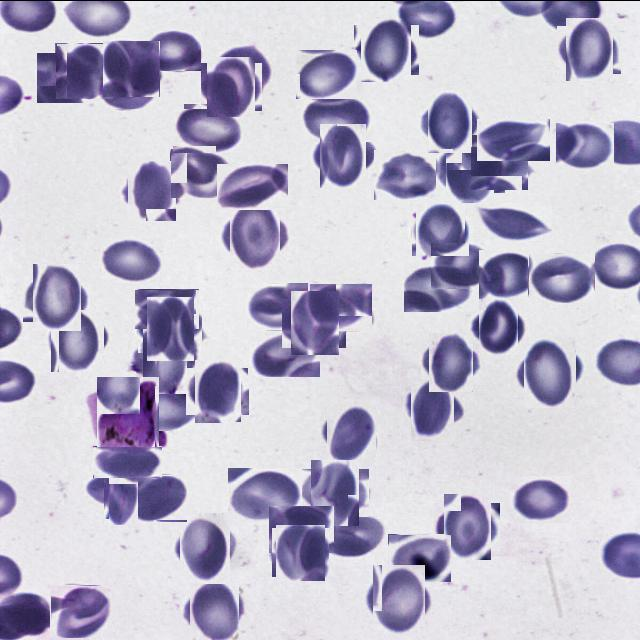difficult: (91, 381, 166, 455)
red blood cell: (228, 467, 302, 521), (224, 203, 286, 266), (519, 340, 581, 402), (175, 517, 236, 578), (369, 568, 430, 628), (172, 102, 244, 152), (442, 138, 499, 198), (301, 93, 372, 141), (185, 581, 243, 639), (306, 463, 364, 521), (28, 268, 86, 326), (358, 20, 416, 78), (528, 252, 595, 302), (248, 330, 320, 376), (48, 311, 106, 368), (55, 42, 114, 98), (50, 584, 112, 637), (217, 163, 288, 209), (403, 263, 471, 311), (438, 498, 496, 554), (374, 149, 438, 199), (170, 147, 233, 197), (137, 332, 193, 388), (562, 21, 618, 77), (142, 300, 198, 356), (286, 294, 342, 350), (104, 40, 160, 96), (296, 48, 358, 98), (212, 42, 270, 95), (134, 382, 198, 430), (477, 118, 550, 160), (269, 505, 334, 552), (190, 363, 245, 418), (124, 164, 180, 218), (388, 533, 451, 581), (316, 128, 372, 182), (309, 282, 372, 330), (406, 380, 460, 435), (422, 94, 477, 148), (319, 514, 386, 558), (324, 408, 378, 462), (204, 59, 258, 113), (247, 282, 308, 329), (414, 204, 467, 257), (274, 525, 327, 578), (96, 462, 148, 516), (474, 204, 552, 240), (100, 237, 162, 282), (512, 475, 571, 522), (128, 474, 187, 521), (431, 242, 491, 288), (479, 249, 535, 298), (556, 122, 614, 169), (425, 335, 477, 387), (134, 288, 199, 328), (470, 145, 528, 189), (38, 52, 88, 102), (98, 65, 156, 108), (144, 29, 201, 70), (474, 302, 522, 350), (93, 445, 162, 477)
